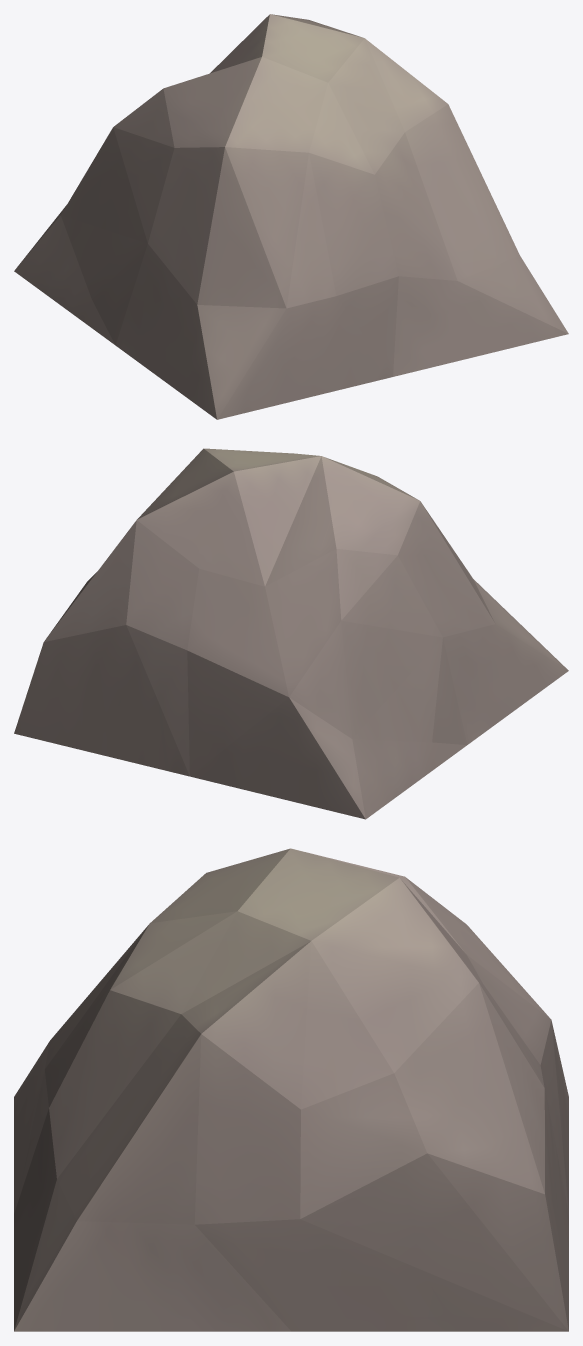
Rendered from Rocher_F.FBX.
The picture shows the model from 3 angles, top to bottom: view 1: azimuth 30°, elevation 25°; view 2: azimuth 150°, elevation 25°; view 3: azimuth 270°, elevation 25°; orthographic projection. The views are drawn at different scales.
Visible parts, largest first — view 1: Rocher_F; view 2: Rocher_F; view 3: Rocher_F.
Boxes of the visible parts, box(x1,y1,x2,y2) form: Rocher_F: box(14, 14, 568, 419); Rocher_F: box(14, 448, 568, 819); Rocher_F: box(14, 848, 568, 1331).
Bounding box in the file's own units: 2 × 1.39 × 2.
